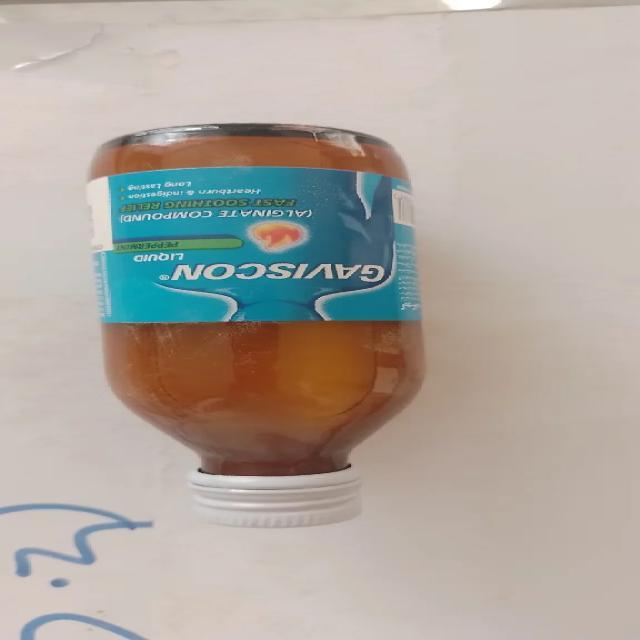drug-name: (169, 262, 388, 282)
